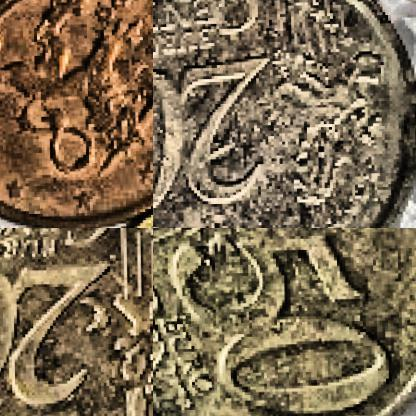coin: (153, 0, 415, 227), (153, 228, 415, 415), (0, 0, 152, 227), (0, 228, 152, 415)
